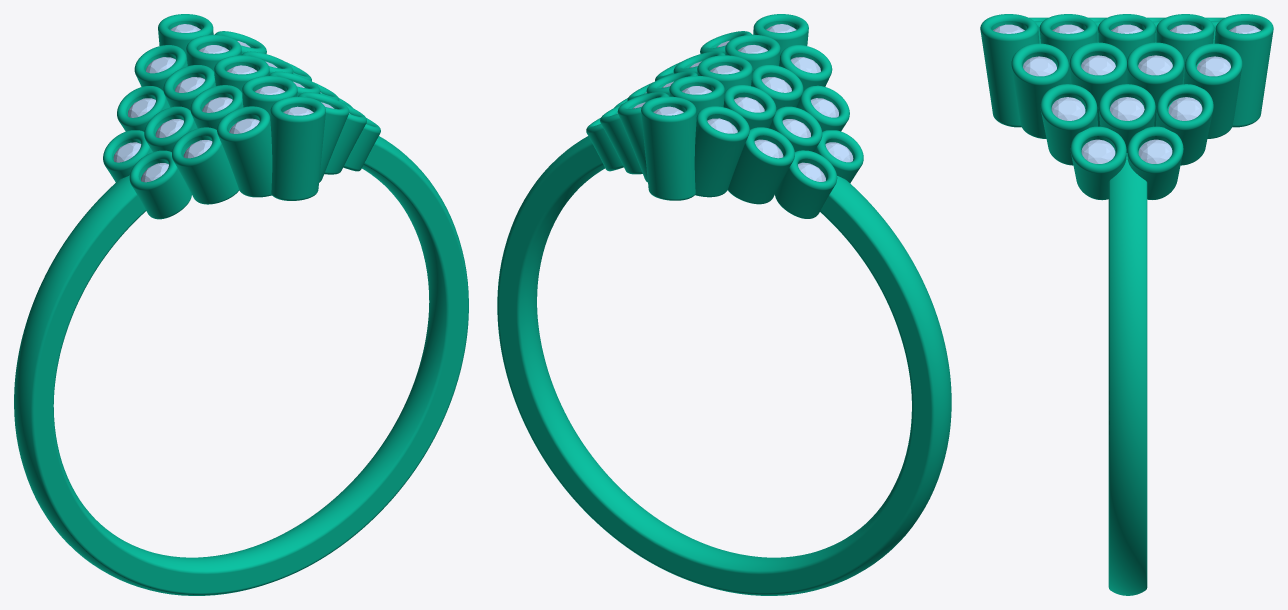
3 views of the same model, side by side, from view 1: azimuth 30°, elevation 25°; view 2: azimuth 150°, elevation 25°; view 3: azimuth 270°, elevation 25° (orthographic). The views are drawn at different scales.
Visible parts, largest first — view 1: cluster ring(render).3dm, Bezel (×17); view 2: cluster ring(render).3dm, Bezel (×17); view 3: Bezel (×14), cluster ring(render).3dm, Diamond_Round (×9).
Boxes of the visible parts, bbox=[...] form: cluster ring(render).3dm: bbox=[14, 136, 468, 595]; Bezel (×17): bbox=[103, 14, 380, 219]; cluster ring(render).3dm: bbox=[497, 136, 951, 595]; Bezel (×17): bbox=[586, 14, 863, 218]; Bezel (×14): bbox=[980, 14, 1273, 200]; cluster ring(render).3dm: bbox=[1108, 153, 1147, 595]; Diamond_Round (×9): bbox=[1023, 55, 1230, 163].
Size of the model in its own units: 2.51 by 2.8 by 1.36.
